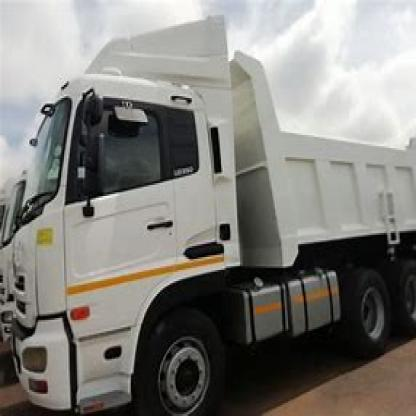dump_truck: (11, 17, 414, 414)
